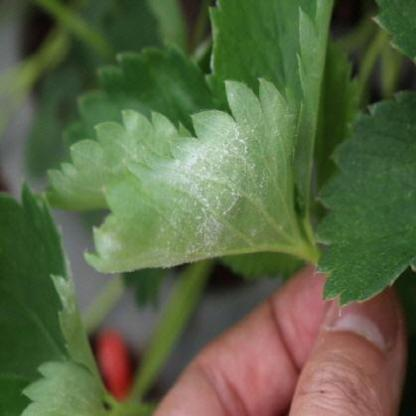Strawberry_Powdery_Mildew_Leaf: (82, 76, 310, 274)
